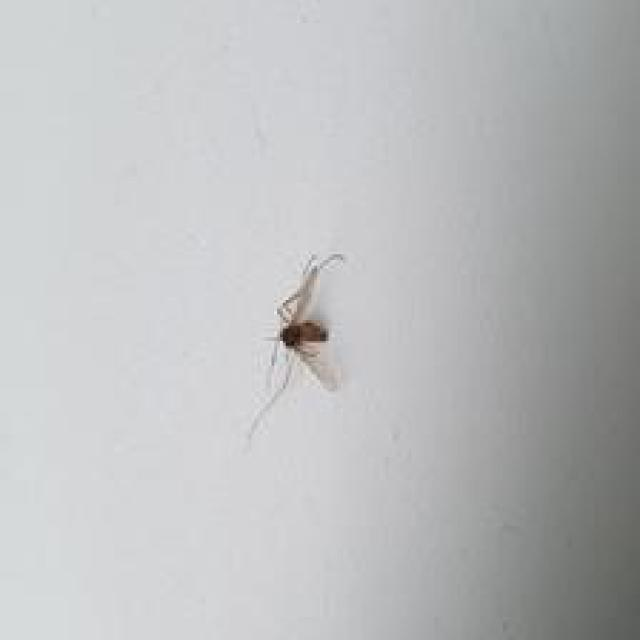Culex: (244, 250, 347, 441)
